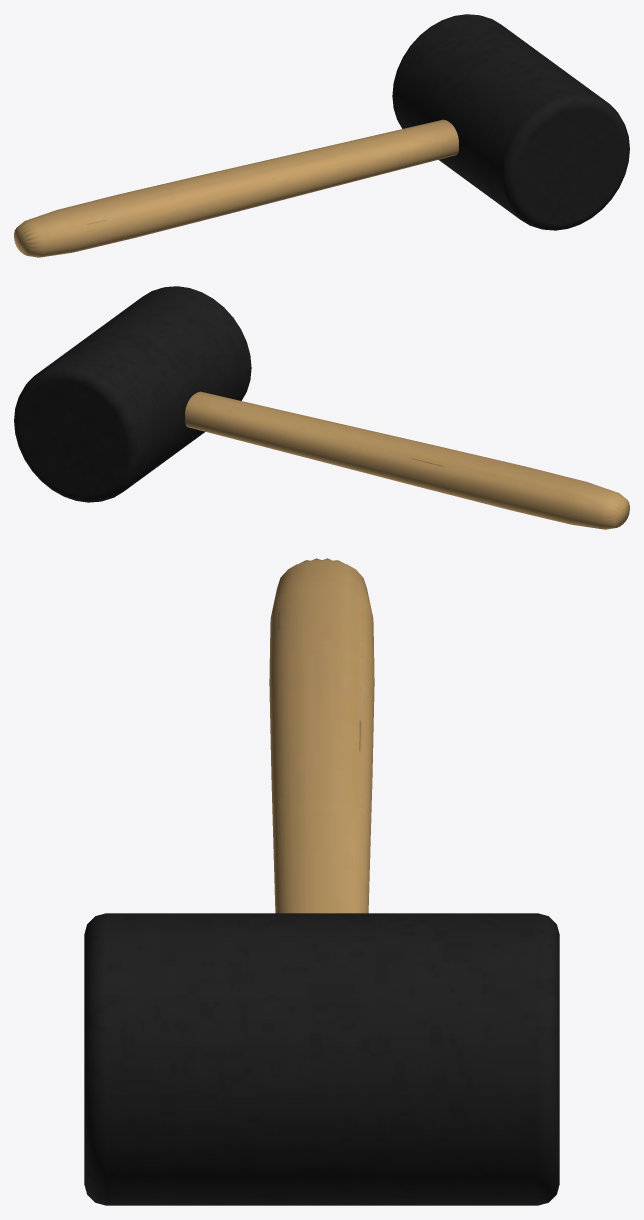
Rendered from rubber-mallet.glb.
3 views of the same model, one above another, from view 1: azimuth 30°, elevation 25°; view 2: azimuth 150°, elevation 25°; view 3: azimuth 270°, elevation 25° (orthographic). The views are drawn at different scales.
Visible parts, largest first — view 1: rubber_mallet, wood_x; view 2: rubber_mallet, wood_x; view 3: rubber_mallet, wood_x.
Boxes of the visible parts, x1=… form: rubber_mallet: x1=392, y1=14, x2=629, y2=230; wood_x: x1=14, y1=119, x2=458, y2=257; rubber_mallet: x1=14, y1=286, x2=251, y2=502; wood_x: x1=185, y1=391, x2=629, y2=529; rubber_mallet: x1=84, y1=913, x2=559, y2=1205; wood_x: x1=269, y1=558, x2=374, y2=913.
Size of the model in its own units: 0.3501 by 0.08 by 0.13.
Materials: 2 (2 with a texture image).
